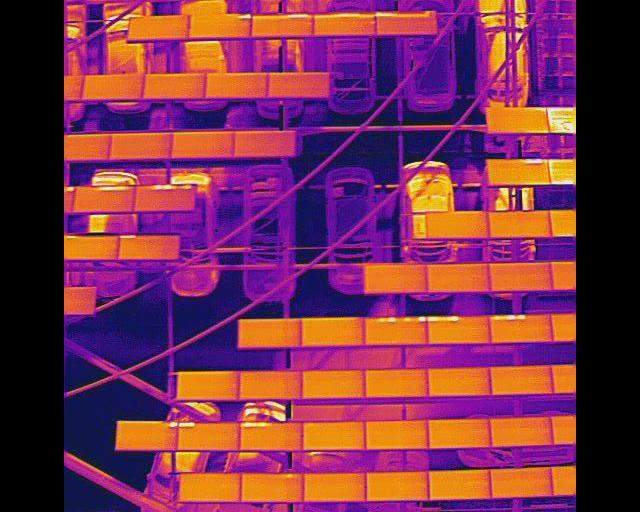Cell: (116, 419, 178, 450)
No-Anomaly: (303, 420, 367, 449), (242, 472, 305, 501), (365, 367, 428, 396), (364, 263, 427, 292), (303, 472, 368, 500), (487, 262, 554, 289), (178, 371, 240, 400), (489, 416, 555, 443), (302, 369, 365, 397), (490, 467, 553, 495), (171, 130, 236, 157), (365, 420, 430, 447), (426, 263, 491, 290), (489, 365, 554, 392), (427, 471, 492, 498), (489, 210, 554, 237), (109, 131, 173, 158), (367, 472, 430, 499), (179, 472, 242, 499), (239, 318, 302, 345), (302, 317, 365, 344), (428, 419, 491, 446), (426, 211, 489, 238), (428, 367, 491, 394), (485, 107, 551, 132), (232, 130, 296, 155), (205, 72, 268, 97), (143, 73, 206, 98), (239, 372, 302, 397), (268, 71, 331, 96), (82, 74, 145, 99), (314, 12, 375, 35), (129, 16, 190, 38), (253, 13, 313, 35), (377, 12, 436, 34), (64, 234, 118, 258)
Unclassified: (177, 418, 239, 449), (240, 421, 302, 450), (426, 315, 491, 342), (366, 316, 428, 343), (73, 185, 135, 212), (490, 315, 554, 341), (486, 158, 549, 184), (134, 184, 195, 210), (118, 232, 181, 257), (190, 13, 253, 36)
